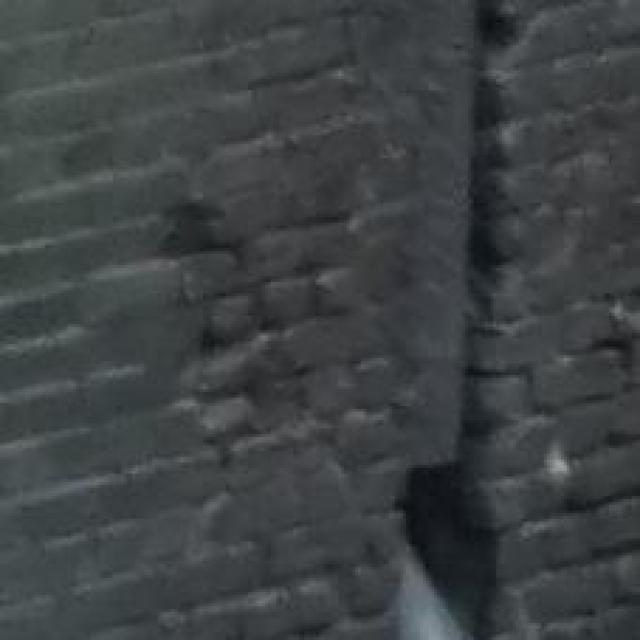Crack: (317, 0, 640, 640)
